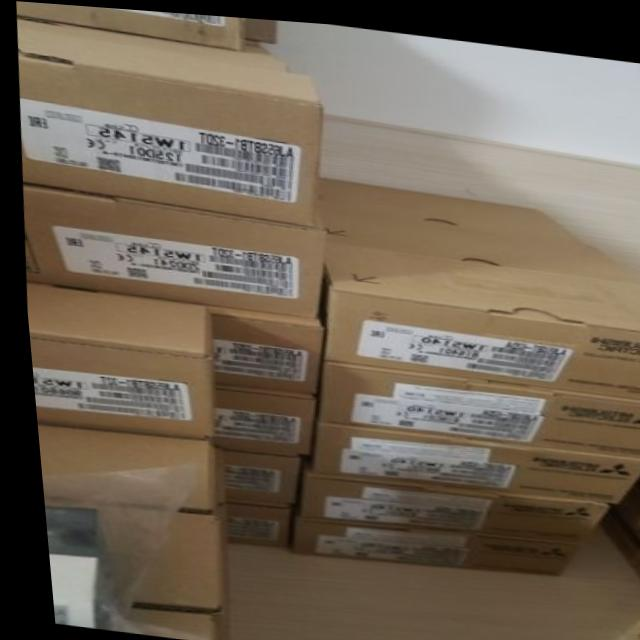box: (19, 27, 322, 222), (315, 237, 640, 393), (21, 183, 324, 313), (311, 356, 640, 451), (23, 284, 206, 436), (300, 418, 640, 495), (312, 199, 640, 275), (291, 468, 599, 536), (35, 499, 217, 610), (310, 172, 582, 234), (284, 514, 573, 569), (30, 423, 206, 509), (19, 16, 287, 67), (18, 1, 245, 47), (201, 302, 318, 390), (205, 381, 308, 450), (206, 442, 295, 502), (210, 495, 280, 542)
